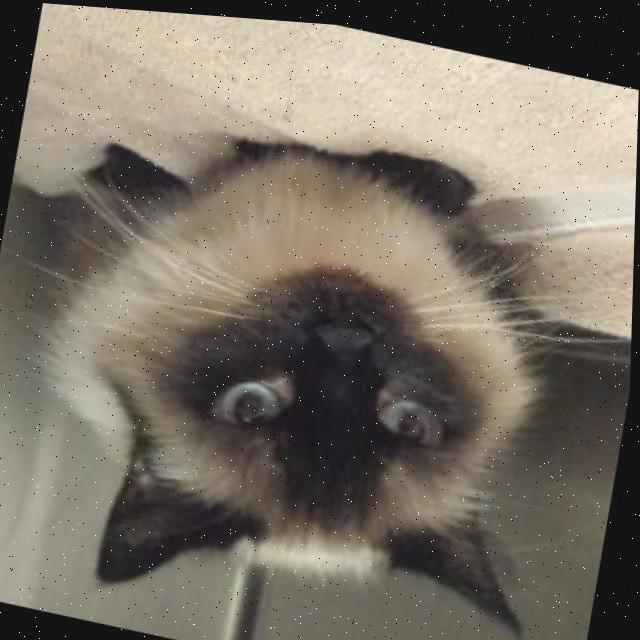Birman: (0, 60, 621, 640)
